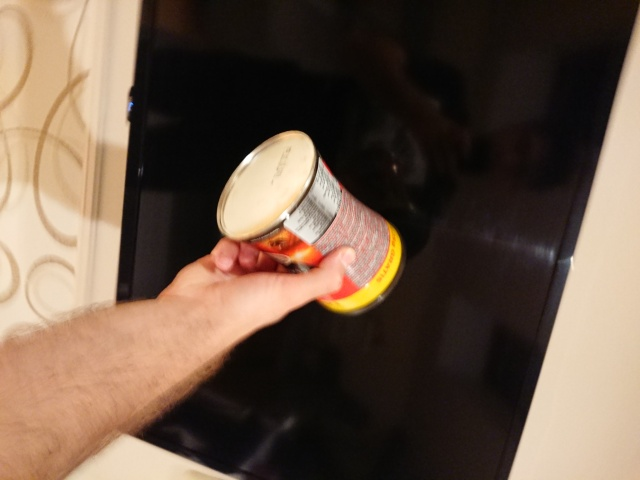Nescafe Classic 225g: (213, 128, 410, 320)
